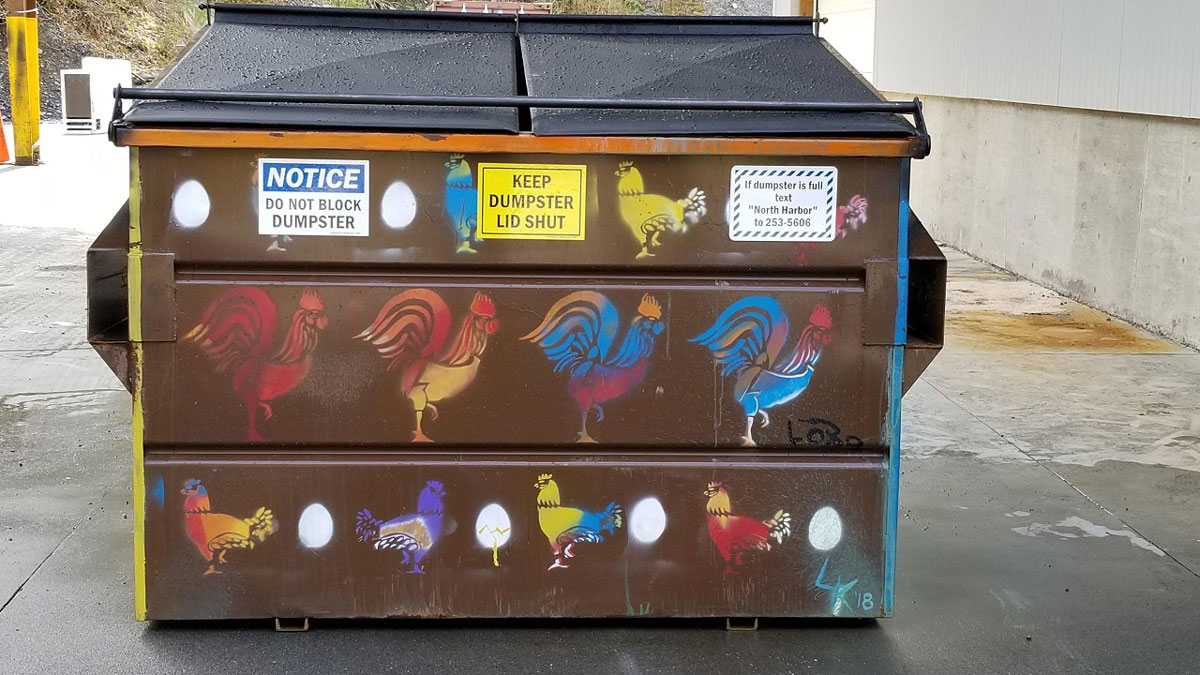Dumpster: (73, 5, 952, 642)
